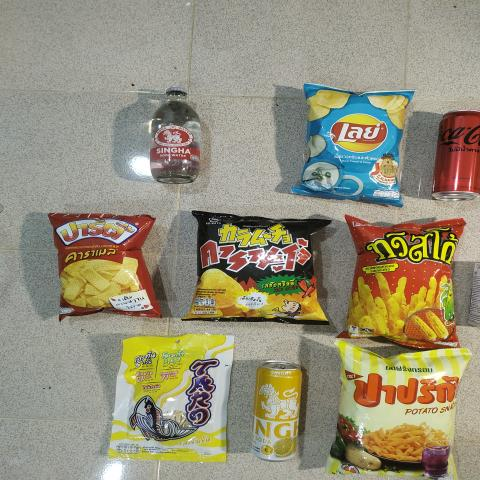coke_red: (431, 108, 480, 202)
karamujo: (185, 219, 325, 321)
lay_blue: (310, 98, 402, 196)
paprika: (338, 353, 454, 474)
party_red: (52, 213, 157, 316)
singha_soda: (140, 85, 206, 188)
singha_yellow: (254, 361, 306, 465)
taro_yellow: (125, 340, 227, 452)
twisco: (351, 217, 457, 342)
